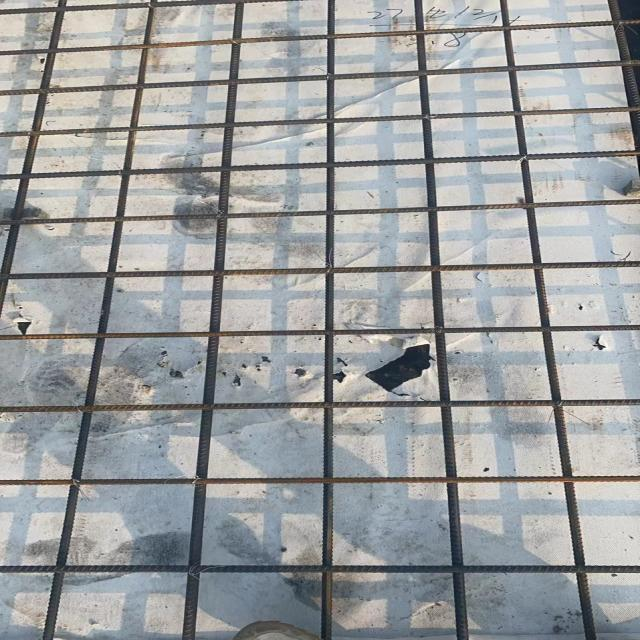ribbed bar: (41, 0, 158, 639), (496, 0, 599, 639), (181, 0, 245, 639), (411, 0, 470, 639), (0, 18, 639, 56), (0, 59, 639, 96), (0, 0, 66, 314), (0, 105, 639, 137), (0, 150, 639, 180), (0, 199, 639, 225), (5, 261, 639, 280), (0, 323, 639, 340), (318, 0, 335, 639), (0, 398, 639, 412), (0, 475, 639, 485), (0, 564, 639, 573), (0, 0, 300, 15), (608, 0, 638, 146)
